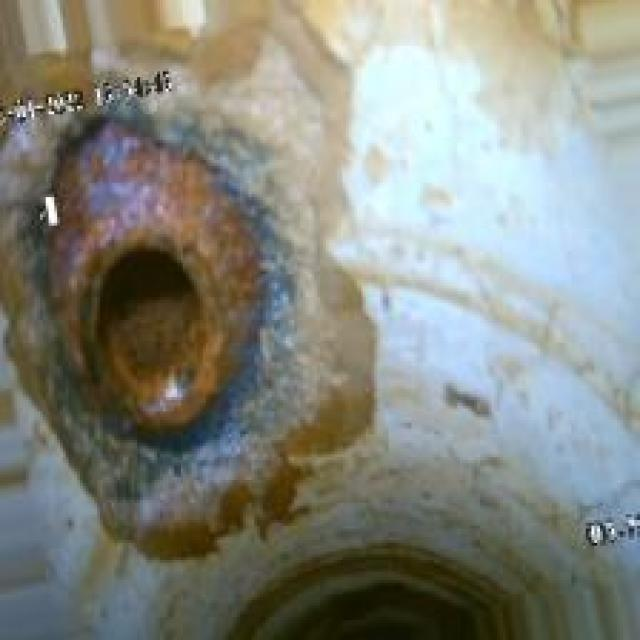ferrule: (23, 149, 317, 477)
